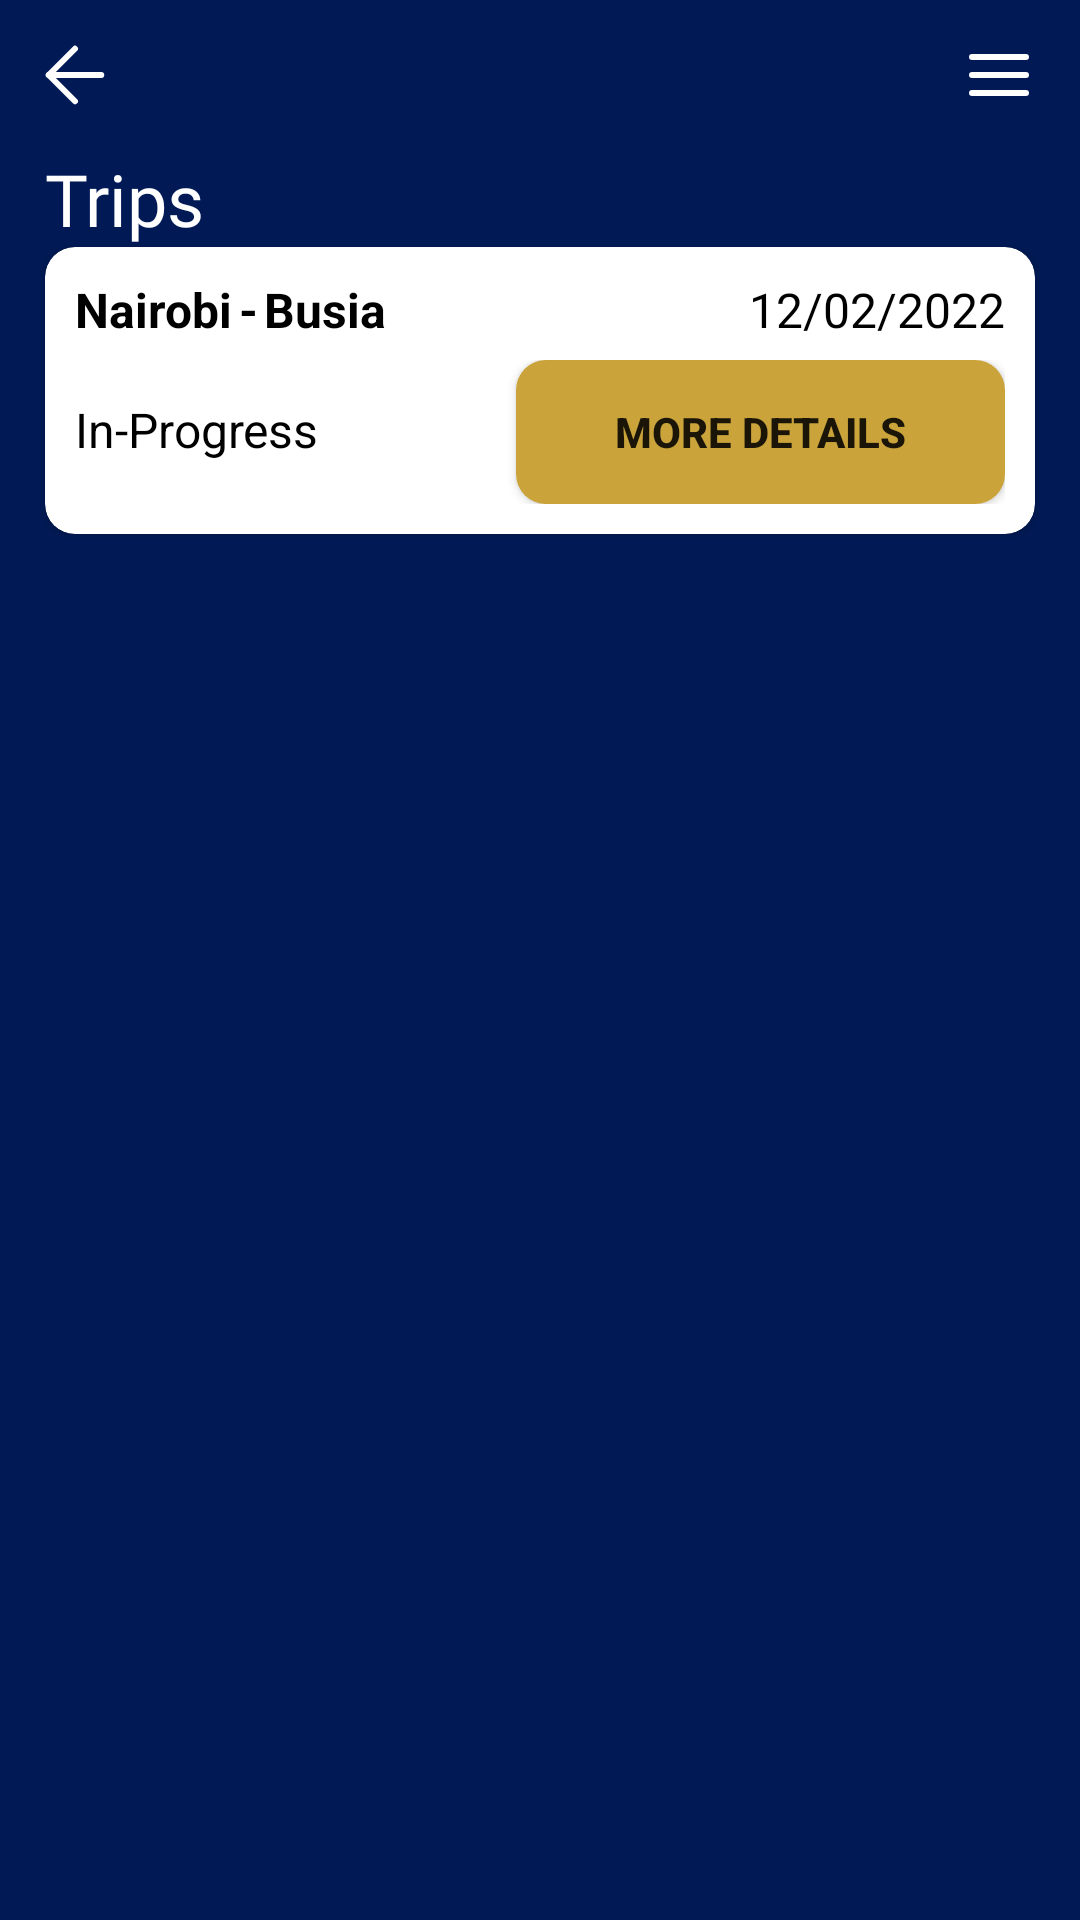

Named icons in this screenshot (1080px×1920px) and their bounding boxes, region(x1, y1, x2, y2):
arrow: region(45, 45, 105, 105)
menu: region(969, 54, 1029, 96)
